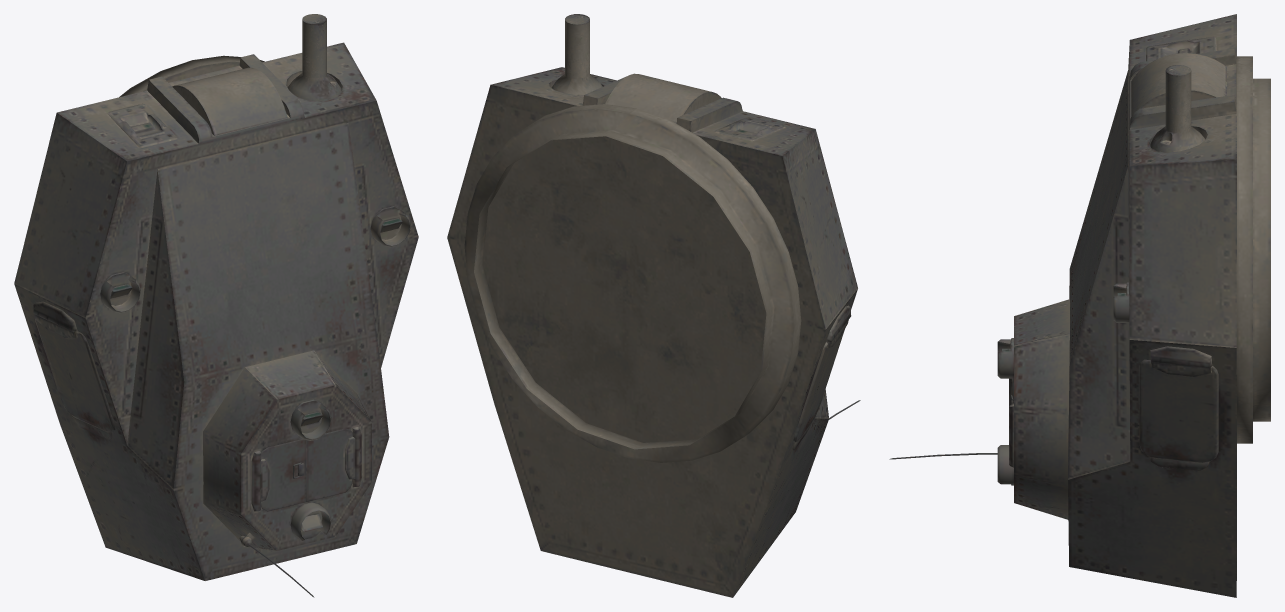
Rendered from Turret_01.glb.
3 renders of one model, left to right at view 1: azimuth 30°, elevation 25°; view 2: azimuth 150°, elevation 25°; view 3: azimuth 270°, elevation 25°, orthographic. The views are drawn at different scales.
Visible parts, largest first — view 1: set_0_group_0; view 2: set_0_group_0; view 3: set_0_group_0.
Part boxes in pixels (x1=…): set_0_group_0: x1=14, y1=14, x2=418, y2=597; set_0_group_0: x1=447, y1=14, x2=860, y2=597; set_0_group_0: x1=889, y1=14, x2=1270, y2=597.
Size of the model in its own units: 1.96 by 2.53 by 1.68.
1 material, 1 textured.
